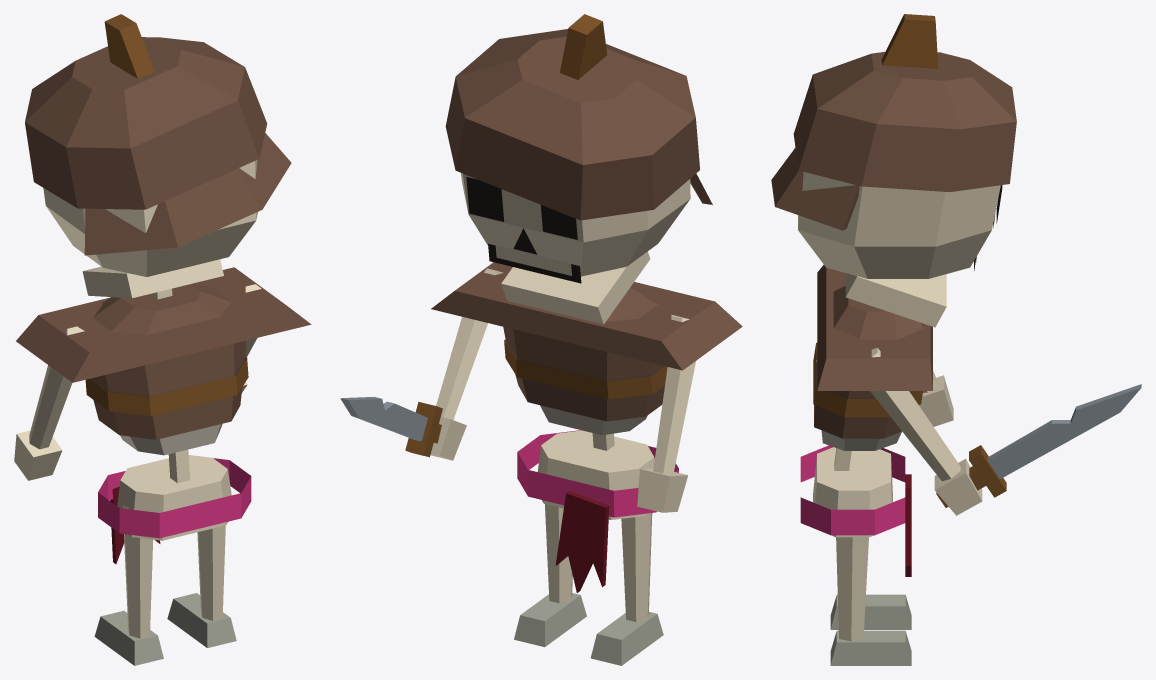
The model's file is EN_SkeletalLegionnaire.fbx.
3 renders of one model, left to right at view 1: azimuth 30°, elevation 25°; view 2: azimuth 150°, elevation 25°; view 3: azimuth 270°, elevation 25°, orthographic. The views are drawn at different scales.
Parts seen in each view (by area): view 1: Head, Body, LegL, LegR, ArmL; view 2: Head, Body, ArmR, LegL, ArmL, LegR; view 3: Head, Body, ArmR, LegR, LegL, ArmL.
Part boxes in pixels (x1,y1,x2,y2): Head: [25, 14, 291, 298]; Body: [16, 267, 311, 564]; LegL: [94, 504, 163, 665]; LegR: [167, 525, 236, 647]; ArmL: [14, 326, 84, 480]; Head: [445, 14, 712, 324]; Body: [431, 262, 742, 592]; ArmR: [340, 268, 503, 460]; LegL: [590, 513, 663, 665]; ArmL: [637, 315, 695, 512]; LegR: [514, 504, 586, 647]; Head: [771, 14, 1016, 327]; Body: [800, 265, 932, 576]; ArmR: [870, 347, 1141, 515]; LegR: [830, 537, 911, 665]; LegL: [830, 594, 911, 629]; ArmL: [919, 371, 953, 426].
Bounding box in the file's own units: 0.69 × 0.9128 × 1.67.
